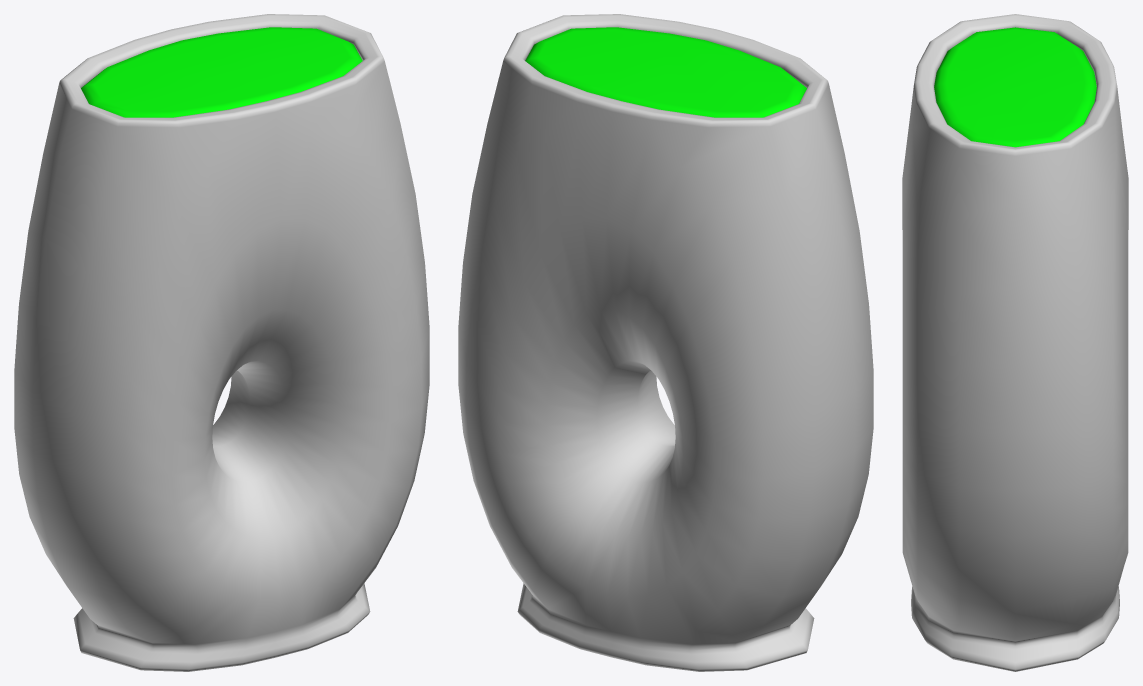
File: MilkyWayGlass.fbx
3 views of the same model, side by side, from view 1: azimuth 30°, elevation 25°; view 2: azimuth 150°, elevation 25°; view 3: azimuth 270°, elevation 25° (orthographic). The views are drawn at different scales.
Parts seen in each view (by area): view 1: Milky Way Glass; view 2: Milky Way Glass; view 3: Milky Way Glass.
Boxes of the visible parts, x1,y1,x2,y2 form: Milky Way Glass: [14, 14, 429, 671]; Milky Way Glass: [458, 14, 873, 671]; Milky Way Glass: [902, 14, 1128, 671].
Bounding box in the file's own units: 51.66 × 71.9 × 28.11.
